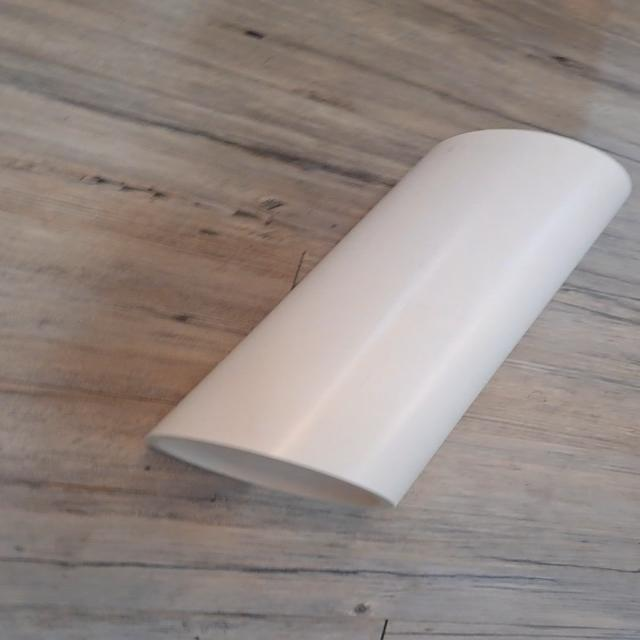CORAL: (143, 112, 640, 537)
